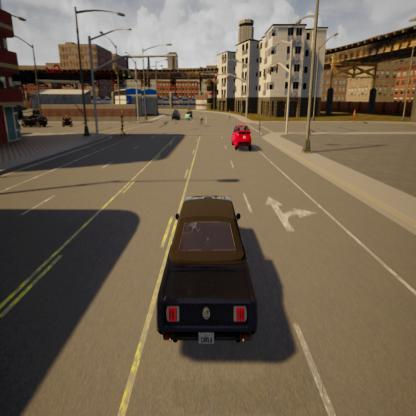Cars: (157, 191, 258, 357), (230, 122, 254, 154)
Pedestrian: (118, 110, 125, 137), (258, 119, 262, 138)
